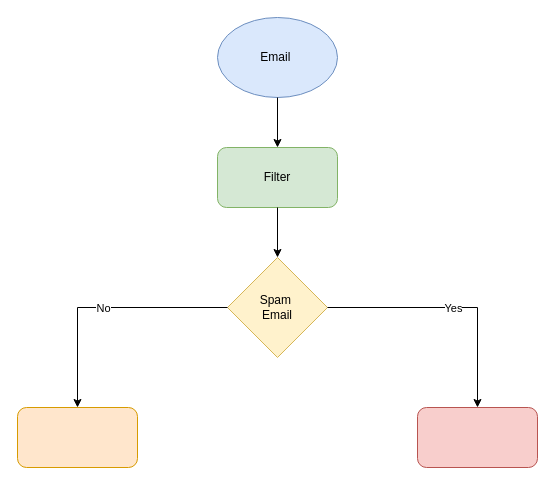
Some shapes in this 555 by 485 pixel diagram are drawn without their labels. Here are the shapes that lost their labels. From the top down, the centre of each, then its label:
At point 77,437: "Inbox".
At point 477,437: "Spam Folder".
